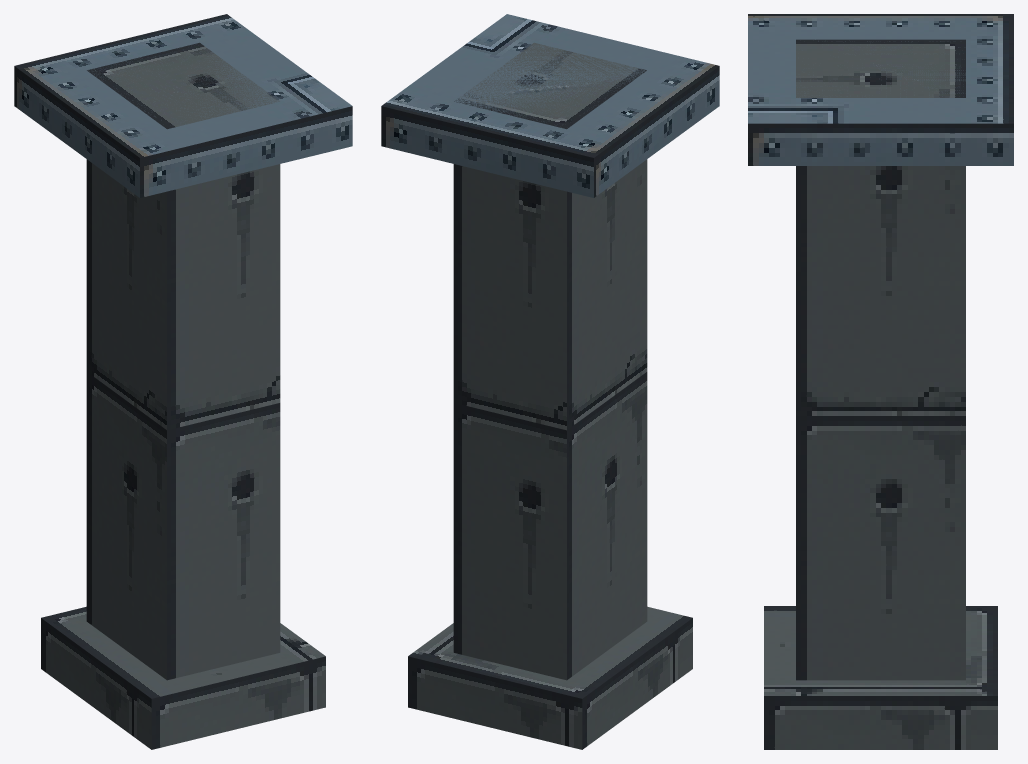
Rendered from bridge_pier.glb.
3 views of the same model, side by side, from view 1: azimuth 30°, elevation 25°; view 2: azimuth 150°, elevation 25°; view 3: azimuth 270°, elevation 25° (orthographic). The views are drawn at different scales.
Parts seen in each view (by area): view 1: bridge_pier; view 2: bridge_pier; view 3: bridge_pier.
Boxes of the visible parts, left/top/right/bottom form: bridge_pier: left=14, top=14, right=352, bottom=749; bridge_pier: left=381, top=14, right=719, bottom=749; bridge_pier: left=748, top=14, right=1013, bottom=749.
Bounding box in the file's own units: 1.22 × 3.3 × 1.25.
1 material, 1 textured.
